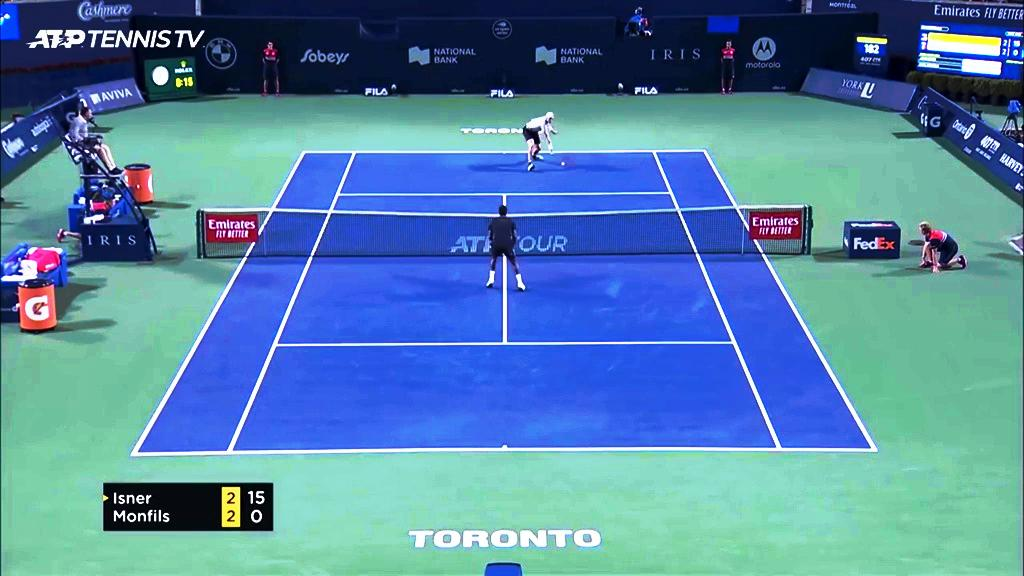tennis-court: (130, 150, 878, 455)
